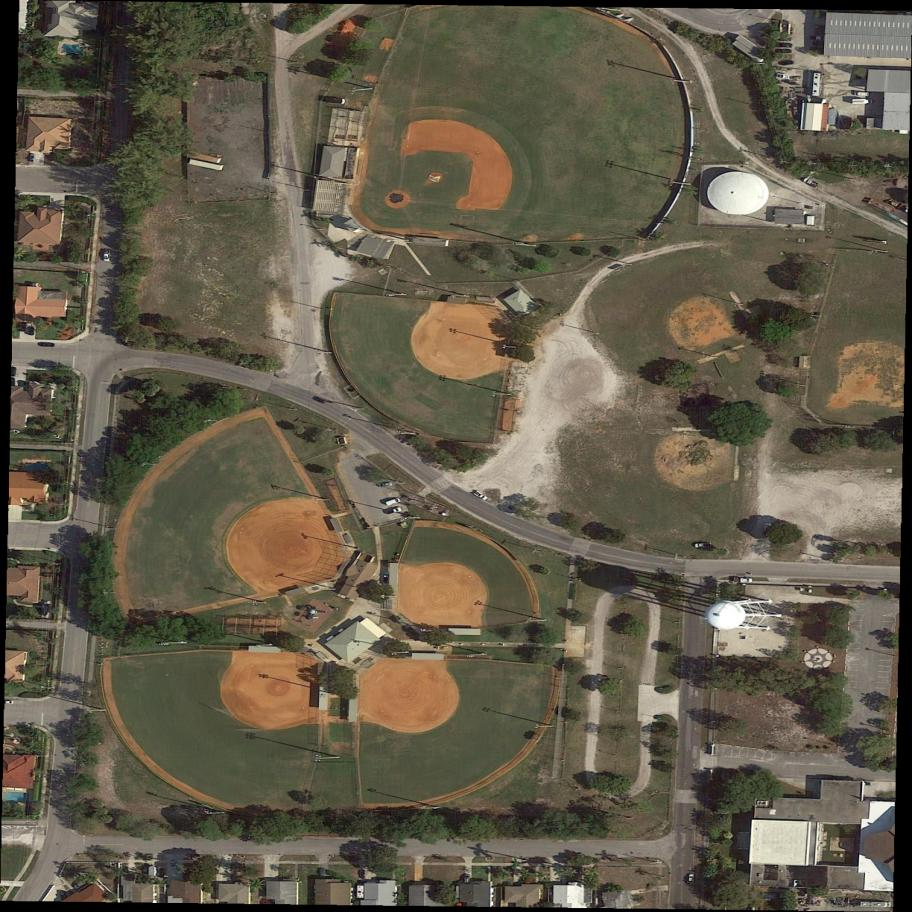large-vehicle: (472, 489, 490, 503), (802, 176, 820, 190), (383, 496, 402, 509), (851, 97, 875, 106), (739, 578, 754, 584)
small-vehicle: (323, 95, 346, 106), (386, 506, 404, 518), (694, 542, 713, 549), (313, 395, 327, 404), (778, 60, 796, 66), (104, 249, 112, 262), (853, 91, 870, 97), (775, 48, 792, 54), (379, 481, 393, 488), (776, 43, 794, 48), (39, 342, 56, 347), (383, 571, 390, 583), (688, 874, 695, 884), (29, 154, 36, 164), (465, 874, 471, 884), (159, 869, 165, 878), (361, 869, 366, 879)
storage-tank: (707, 172, 770, 215)
